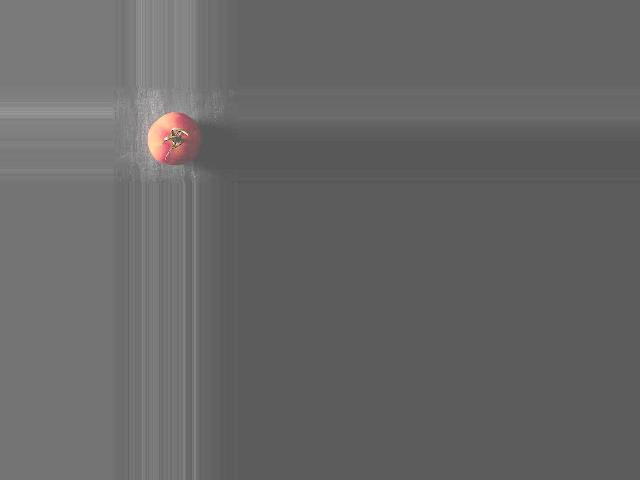tomato: (147, 112, 200, 164)
